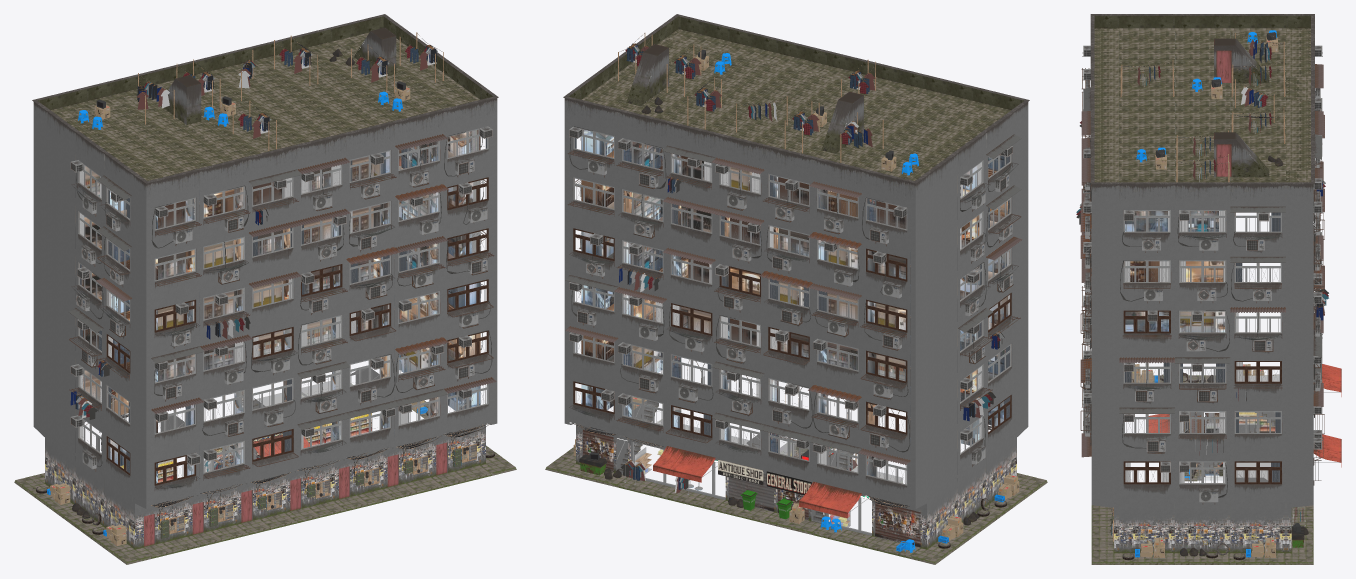
File: apartment.glb
The picture shows the model from 3 angles, left to right: view 1: azimuth 30°, elevation 25°; view 2: azimuth 150°, elevation 25°; view 3: azimuth 270°, elevation 25°; orthographic projection.
Parts seen in each view (by area): view 1: Object_4, Object_362; view 2: Object_4, Object_362; view 3: Object_362, Object_4.
Boxes of the visible parts, x1,y1,x2,y2 form: Object_4: (69,45,496,505); Object_362: (14,14,516,564); Object_4: (565,43,1022,505); Object_362: (545,14,1047,564); Object_362: (1090,14,1341,564); Object_4: (1076,40,1328,523).
Bounding box in the file's own units: 8 × 8.12 × 4.79.
Materials: 3 (2 with a texture image).
